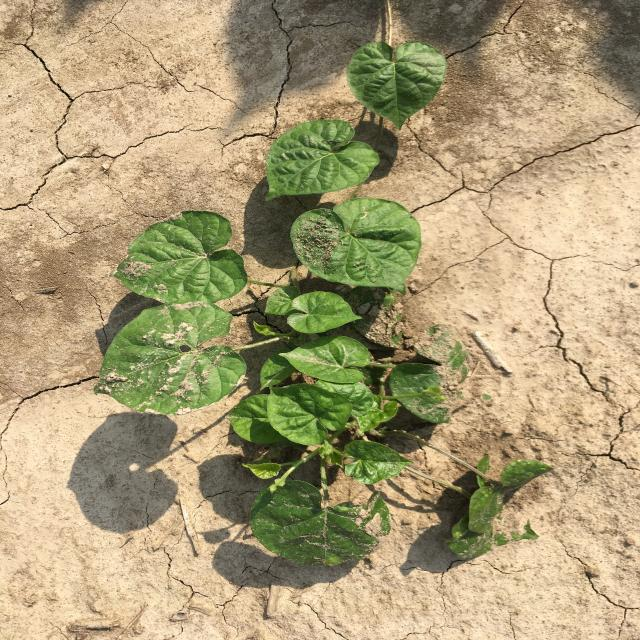MorningGlory: (94, 40, 558, 569)
